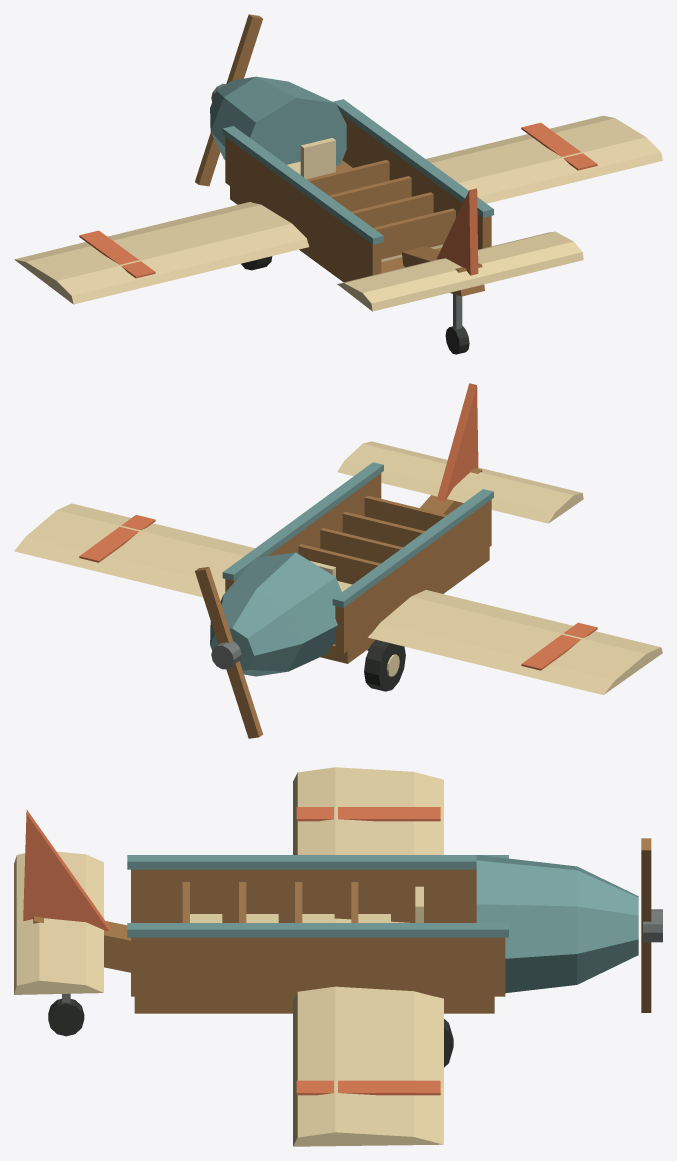
Rendered from aircraft.glb.
3 renders of one model, top to bottom at view 1: azimuth 30°, elevation 25°; view 2: azimuth 150°, elevation 25°; view 3: azimuth 270°, elevation 25°, orthographic. The views are drawn at different scales.
Visible parts, largest first — view 1: MainWing, EngineCowling, Tailplane, CabinRail-1, CabinRail1, CabinTrim-1, CabinTrim1, BenchBack3, TailFin, Propeller, BenchBack0, BenchBack1 (+7 smaller); view 2: MainWing, EngineCowling, Tailplane, CabinRail-1, CabinTrim-1, CabinTrim1, Propeller, TailFin, CabinRail1, BenchBack3, BenchBack2, BenchBack1 (+7 smaller); view 3: MainWing, CabinRail1, EngineCowling, CabinRail-1, Tailplane, CabinTrim1, CabinTrim-1, TailFin, CabinFloor, WingBand1, WingBand-1, Propeller (+3 smaller).
Boxes of the visible parts, x1,y1,x2,y2 form: MainWing: [14, 115, 662, 304]; EngineCowling: [210, 76, 346, 165]; Tailplane: [337, 231, 583, 311]; CabinRail-1: [225, 137, 381, 278]; CabinRail1: [342, 115, 491, 249]; CabinTrim-1: [222, 126, 383, 244]; CabinTrim1: [333, 99, 493, 217]; BenchBack3: [373, 208, 455, 259]; TailFin: [436, 188, 478, 275]; Propeller: [195, 14, 262, 186]; BenchBack0: [307, 160, 389, 195]; BenchBack1: [329, 176, 411, 211]; MainWing: [14, 503, 662, 694]; EngineCowling: [210, 552, 341, 676]; Tailplane: [337, 441, 583, 523]; CabinRail-1: [335, 500, 491, 653]; CabinTrim-1: [332, 489, 493, 607]; CabinTrim1: [222, 462, 383, 580]; Propeller: [195, 567, 263, 738]; TailFin: [436, 383, 478, 501]; CabinRail1: [225, 473, 381, 591]; BenchBack3: [364, 495, 446, 530]; BenchBack2: [342, 511, 424, 547]; BenchBack1: [320, 528, 402, 563]; MainWing: [293, 767, 443, 1146]; CabinRail1: [131, 937, 505, 996]; EngineCowling: [476, 855, 638, 993]; CabinRail-1: [131, 869, 476, 922]; Tailplane: [14, 851, 103, 994]; CabinTrim1: [127, 923, 508, 937]; CabinTrim-1: [127, 855, 508, 869]; TailFin: [23, 809, 109, 931]; CabinFloor: [134, 996, 494, 1013]; WingBand1: [296, 1080, 440, 1095]; WingBand-1: [296, 807, 440, 821]; Propeller: [641, 838, 651, 1012].
Bounding box in the file's own units: 12 × 3.4 × 9.02.
